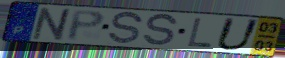L: (186, 17, 215, 49)
N: (29, 6, 76, 42)
P: (66, 9, 107, 43)
S: (141, 13, 180, 48), (106, 11, 145, 46)
U: (213, 16, 263, 52)
